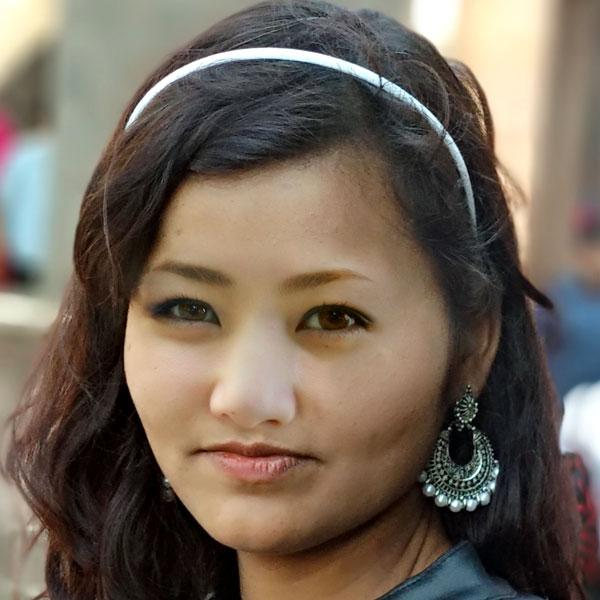Eyes: (289, 295, 379, 349), (146, 285, 225, 334)
